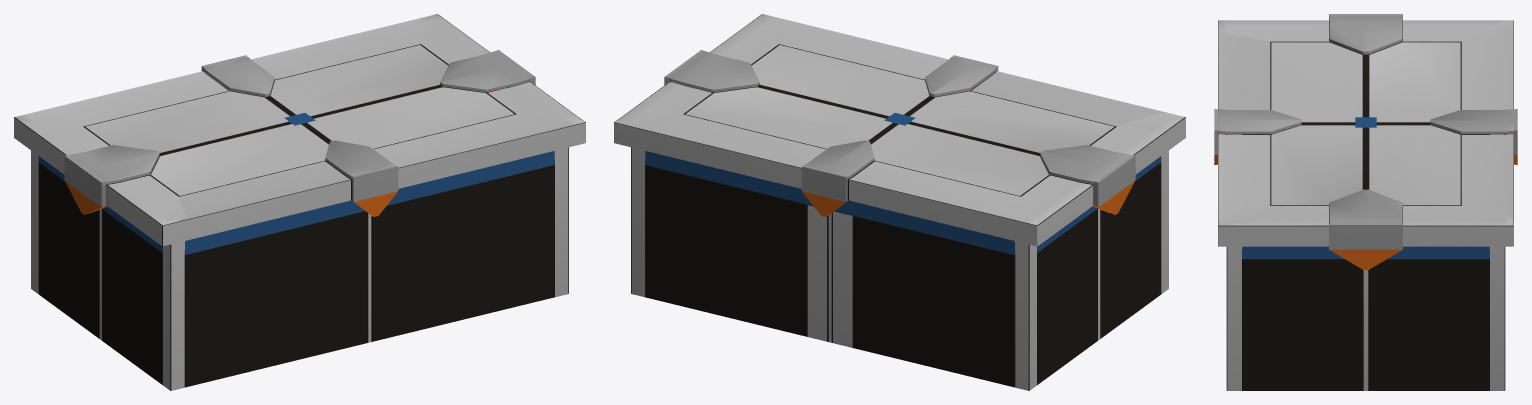
Rendered from Table Island.fbx.
The picture shows the model from 3 angles, left to right: view 1: azimuth 30°, elevation 25°; view 2: azimuth 150°, elevation 25°; view 3: azimuth 270°, elevation 25°; orthographic projection.
Visible parts, largest first — view 1: Table main; view 2: Table main; view 3: Table main.
Boxes of the visible parts, left/top/right/bottom form: Table main: left=14, top=14, right=585, bottom=390; Table main: left=614, top=14, right=1185, bottom=390; Table main: left=1214, top=14, right=1517, bottom=390.
Size of the model in its own units: 1763 by 681 by 1070.
2 materials, 2 textured.
